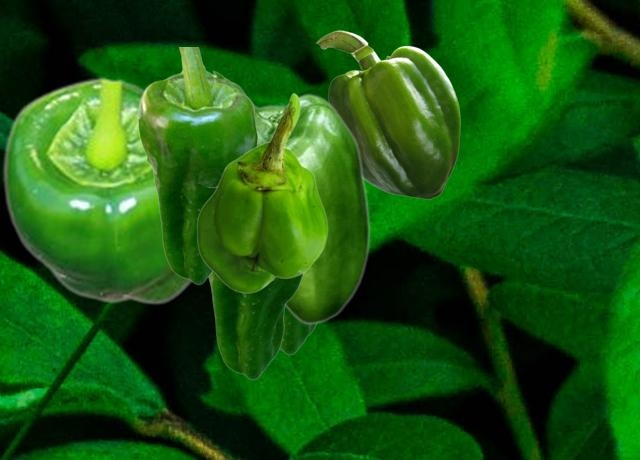bell_pepper: (1, 76, 193, 304), (212, 73, 370, 324), (137, 47, 257, 284), (196, 92, 327, 292), (316, 30, 459, 198), (208, 273, 303, 379), (280, 310, 316, 354)
